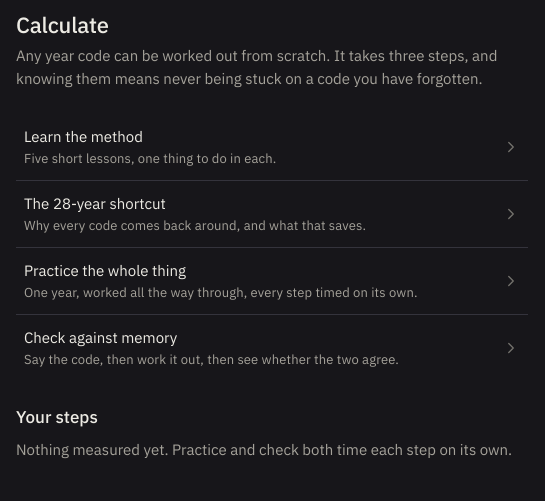
Test: Learn the method › teaches the division and the discarding as two lessons, not one
Step 1. Click the button "Learn the method" → (272, 147), box [16,114,528,180]
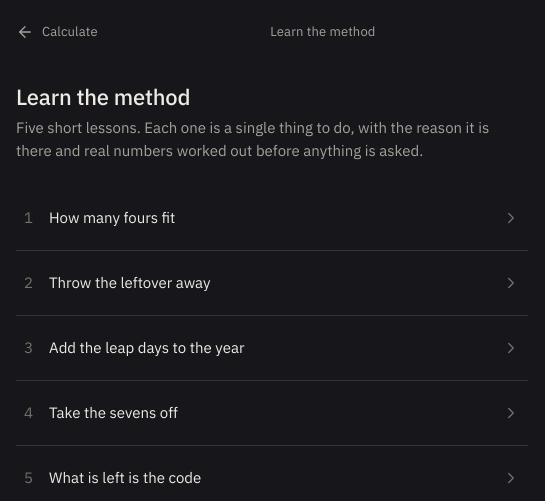
Check: the button "1 How many fours fit" is shown, box [16,186,528,250]
Check: the button "2 Throw the leftover away" is shown, box [16,251,528,315]
Check: the button "3 Add the leap days to the year" is shown, box [16,316,528,380]
